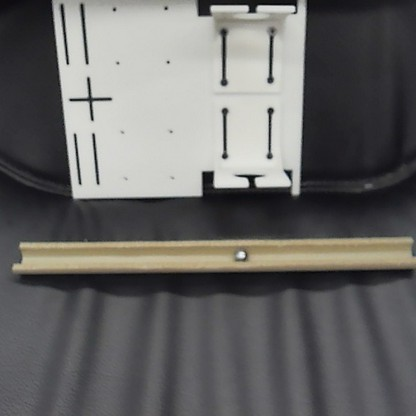ironball: (230, 246, 248, 261)
